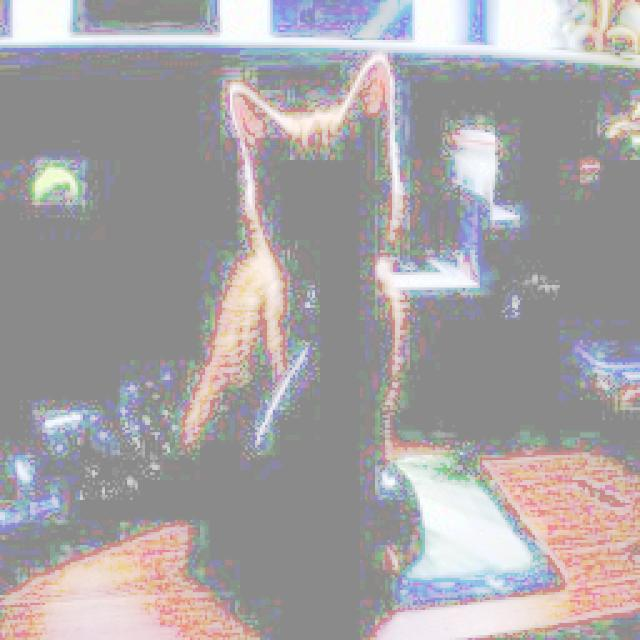cat: (173, 54, 425, 596)
